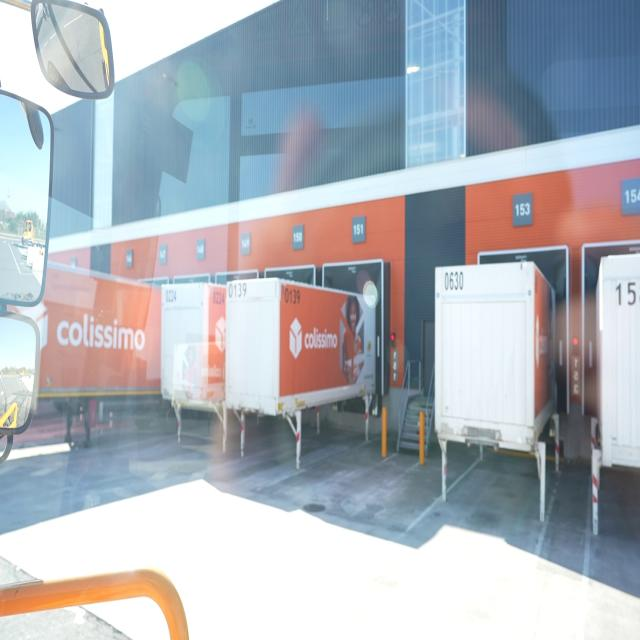Code: (439, 266, 466, 297), (281, 284, 306, 313), (224, 280, 248, 304)
